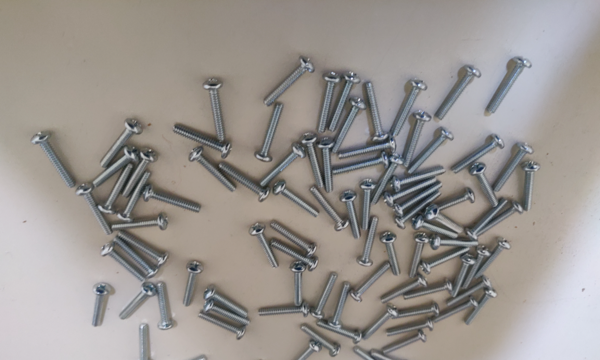longscrew: (446, 137, 504, 185), (432, 66, 482, 120), (30, 132, 76, 188), (485, 57, 531, 113), (258, 58, 315, 102), (191, 147, 237, 194), (395, 191, 443, 236), (88, 146, 139, 188), (386, 80, 424, 136), (330, 96, 366, 155), (404, 129, 450, 175), (324, 71, 358, 133), (494, 144, 531, 199), (256, 145, 305, 186), (100, 121, 143, 167), (76, 185, 114, 237), (221, 164, 269, 205), (477, 202, 525, 243), (173, 126, 232, 159), (384, 176, 441, 210), (276, 181, 320, 225), (396, 114, 431, 167), (390, 182, 443, 217), (467, 197, 510, 240), (346, 262, 393, 301), (312, 71, 342, 132), (253, 102, 284, 161), (420, 245, 471, 280), (117, 173, 154, 221), (98, 167, 135, 215), (122, 152, 159, 200), (425, 189, 474, 225), (100, 243, 144, 283), (114, 237, 158, 277), (368, 156, 403, 206), (122, 231, 165, 271), (390, 167, 449, 196), (473, 160, 502, 218), (308, 189, 348, 231), (476, 239, 514, 283), (271, 220, 317, 256), (330, 154, 390, 181), (203, 78, 226, 146), (338, 136, 398, 162), (248, 221, 279, 269), (445, 277, 493, 308), (309, 272, 338, 322), (363, 78, 386, 141), (205, 286, 249, 318), (145, 188, 201, 213), (379, 276, 429, 304), (392, 300, 442, 328), (273, 242, 318, 273), (462, 247, 492, 292), (462, 290, 499, 326), (385, 318, 434, 345), (355, 216, 381, 265), (429, 300, 482, 324), (361, 309, 395, 346), (404, 279, 456, 303), (304, 133, 326, 189), (117, 285, 154, 318), (426, 207, 464, 239), (412, 215, 462, 239), (304, 325, 340, 358), (519, 159, 541, 213), (381, 331, 426, 357), (200, 314, 243, 341), (205, 302, 250, 327), (356, 177, 376, 233), (314, 322, 362, 344), (448, 256, 474, 296), (404, 233, 426, 280), (328, 283, 351, 327), (341, 192, 361, 242), (181, 263, 202, 309), (113, 217, 168, 234), (383, 232, 401, 282), (429, 237, 484, 253), (320, 139, 336, 193), (90, 283, 109, 328), (289, 259, 306, 309), (259, 304, 308, 320), (157, 283, 171, 330), (284, 344, 319, 360), (137, 324, 151, 360), (353, 347, 391, 360), (373, 349, 411, 360), (161, 358, 210, 360)
